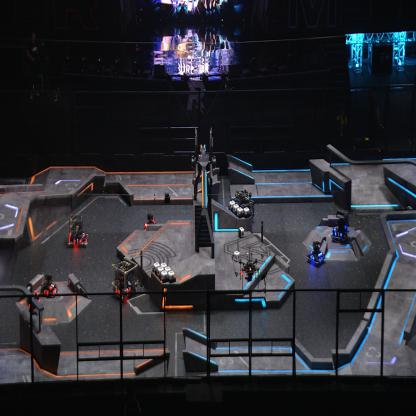car: (111, 256, 138, 299), (68, 212, 90, 248), (233, 190, 255, 224), (331, 206, 349, 242), (306, 239, 326, 266), (40, 272, 58, 298), (144, 214, 157, 231)
